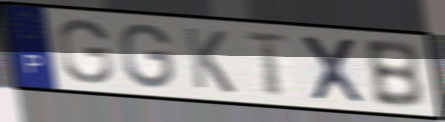B: (360, 39, 427, 111)
G: (55, 17, 115, 86), (118, 21, 177, 91)
K: (181, 25, 238, 96)
T: (242, 30, 293, 99)
X: (297, 32, 370, 106)
